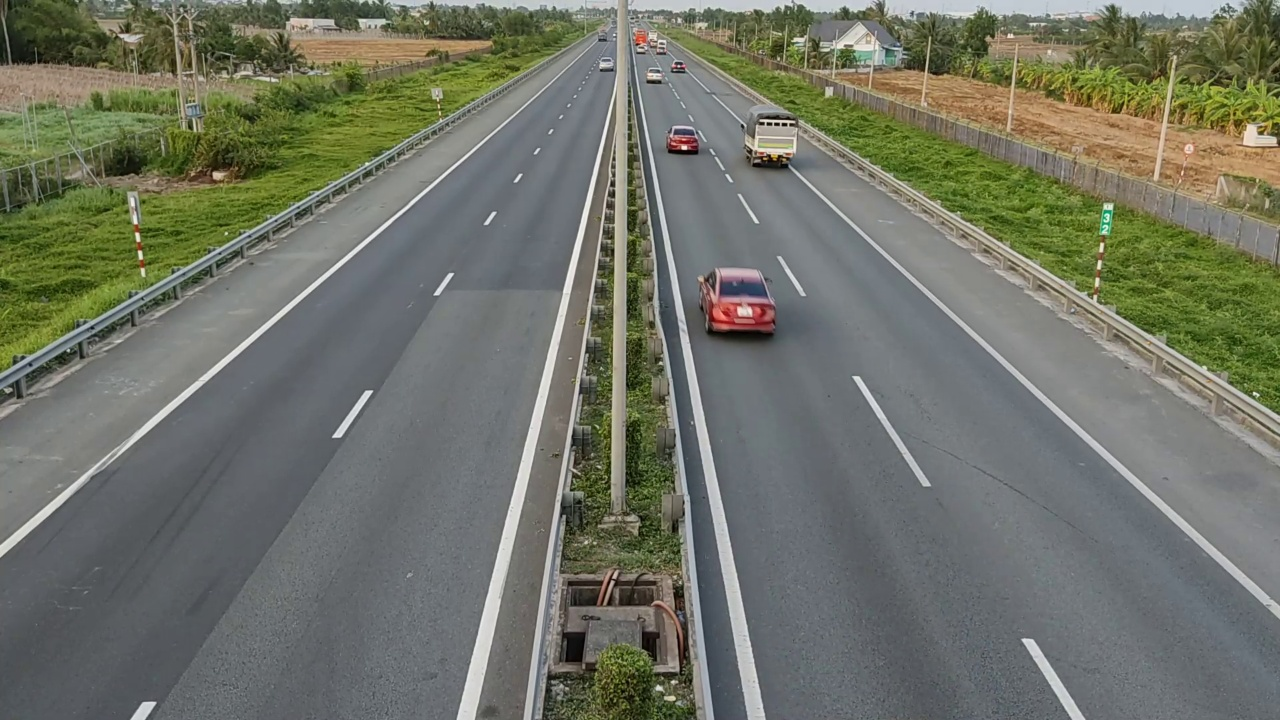car: (697, 266, 777, 336), (665, 125, 701, 153), (645, 65, 665, 83)
truck: (741, 101, 802, 171)
